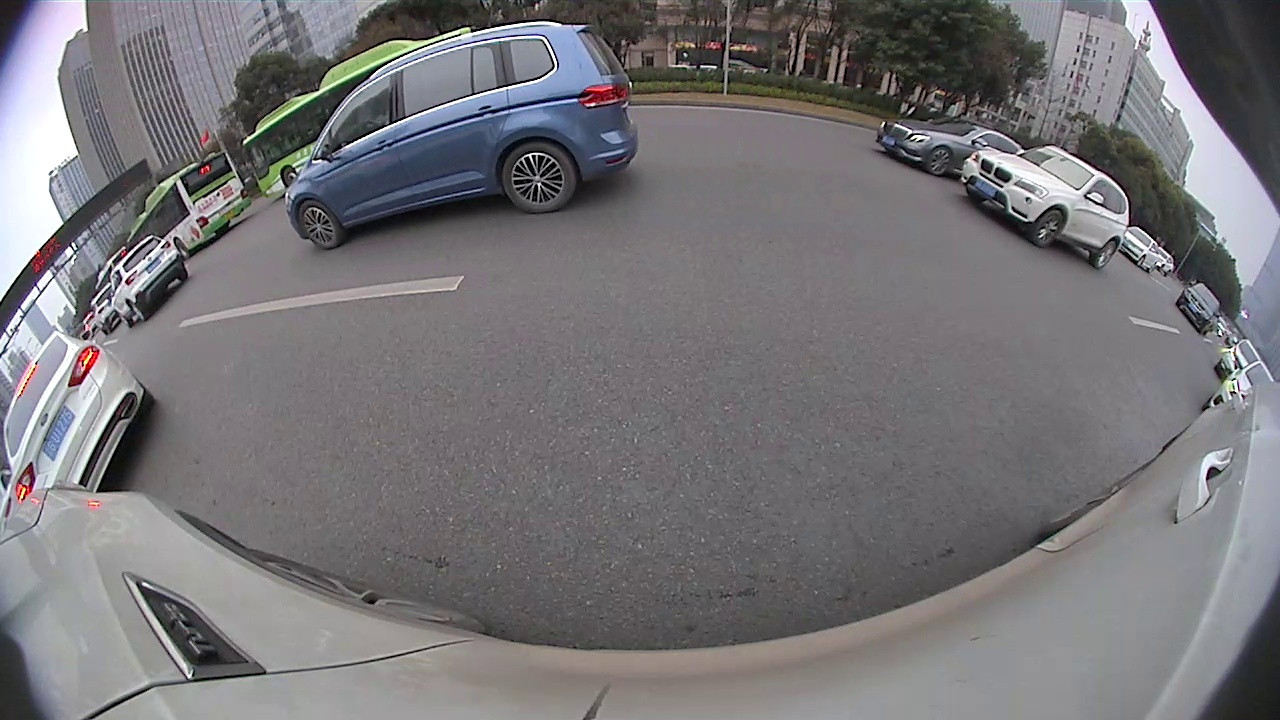bus: (238, 21, 482, 201)
car: (281, 18, 643, 254), (5, 324, 158, 498), (958, 145, 1132, 270), (878, 115, 1026, 181), (106, 233, 190, 328)
front: (296, 200, 339, 249), (1033, 207, 1066, 252), (928, 146, 953, 178)
rear: (498, 143, 579, 213), (1094, 237, 1118, 271)
